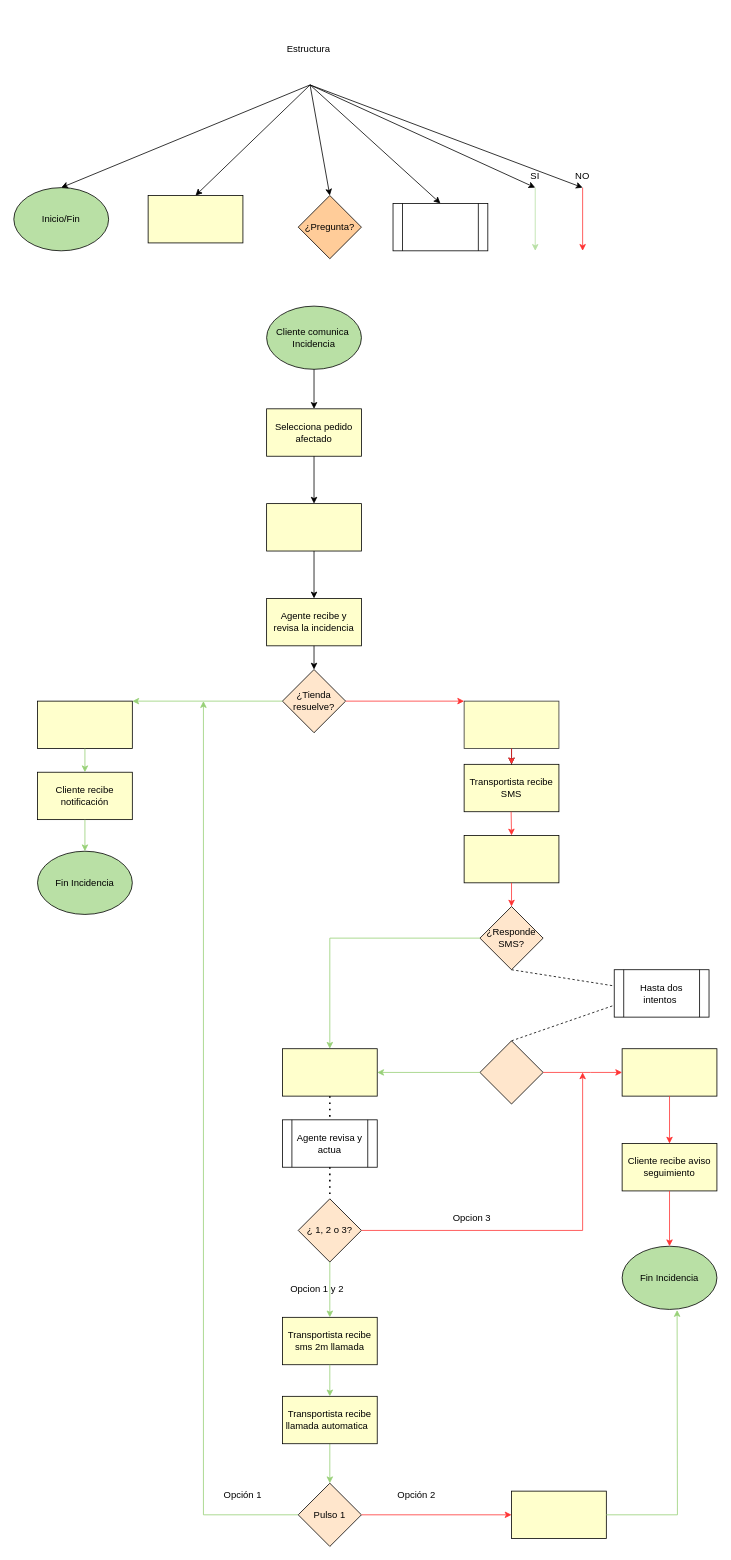
The diagram is 731 pixels wide and 1560 high, and some of its shapes have lost their labels. The centre of each missing label's shape, as x and y in pixels:
"Acción" belongs at point (195, 219).
"Agente recibe respuesta transportista" belongs at point (329, 1072).
"Agente Registra Contacto faliido" belongs at point (669, 1072).
"Agente registra la resolución" belongs at point (84, 724).
"Agente solicita contacto Transportista" belongs at point (511, 724).
"Completa y envía la incidencia" belongs at point (313, 527).
"LLamada a tres, tranportista, cliente y agente" belongs at point (558, 1514).
"Procesos" belongs at point (440, 227).
"Transportista lee" belongs at point (511, 859).
"¿SMS?" belongs at point (511, 1072).
